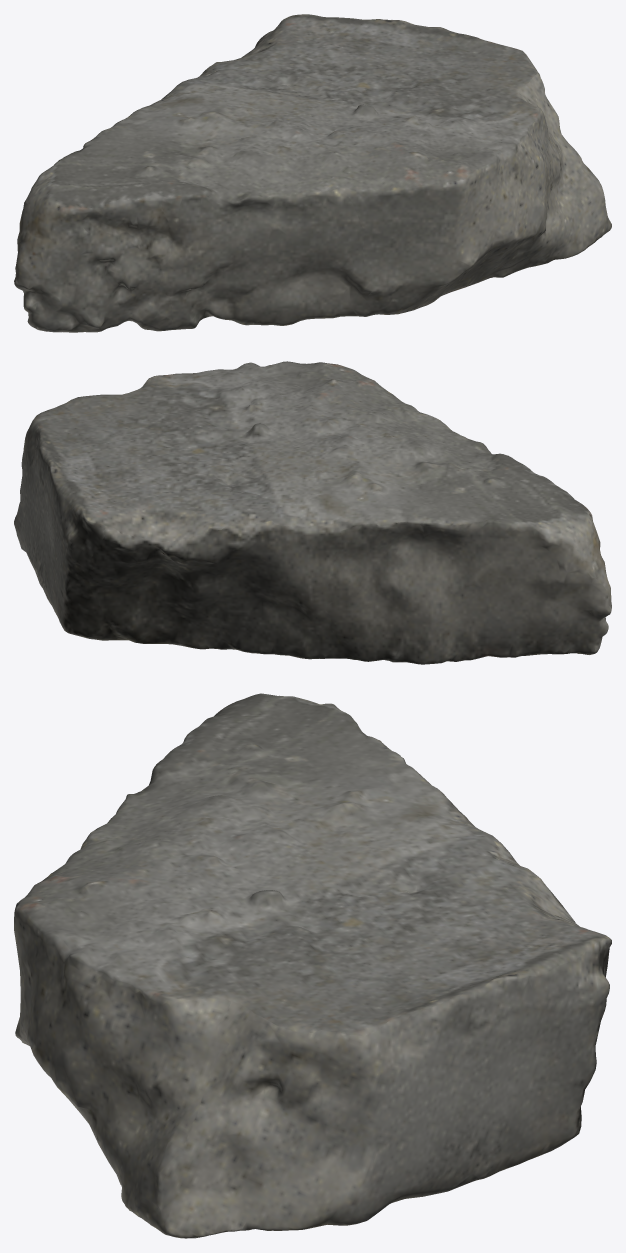
File: Rock6.fbx
The picture shows the model from 3 angles, top to bottom: view 1: azimuth 30°, elevation 25°; view 2: azimuth 150°, elevation 25°; view 3: azimuth 270°, elevation 25°; orthographic projection. The views are drawn at different scales.
Parts seen in each view (by area): view 1: Aset_debris_construction_S_tmkhdecva_05_LOD0; view 2: Aset_debris_construction_S_tmkhdecva_05_LOD0; view 3: Aset_debris_construction_S_tmkhdecva_05_LOD0.
Part boxes in pixels (bbox=[...]): Aset_debris_construction_S_tmkhdecva_05_LOD0: bbox=[14, 14, 611, 332]; Aset_debris_construction_S_tmkhdecva_05_LOD0: bbox=[14, 361, 611, 664]; Aset_debris_construction_S_tmkhdecva_05_LOD0: bbox=[14, 693, 611, 1238].
Bounding box in the file's own units: 29.99 × 7.96 × 20.08.
